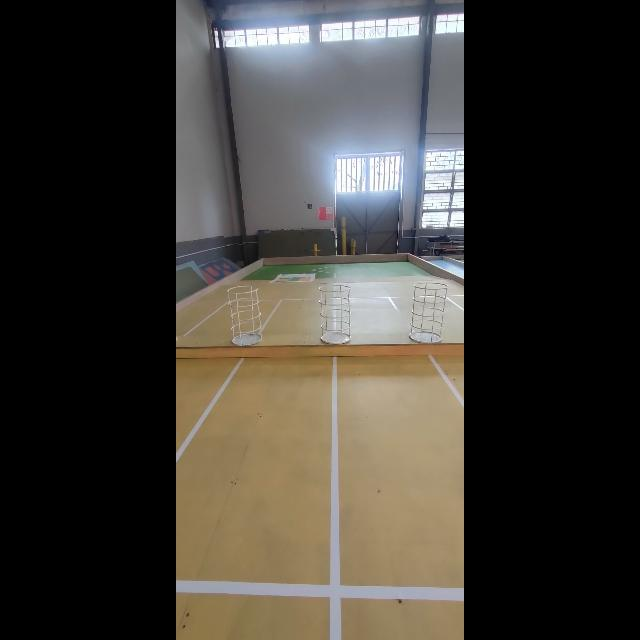S: (410, 282, 450, 344), (226, 284, 264, 348), (320, 283, 352, 345)
